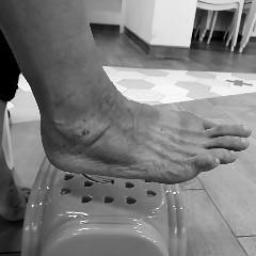Lateral View -Right Foot-: (14, 43, 255, 209)
